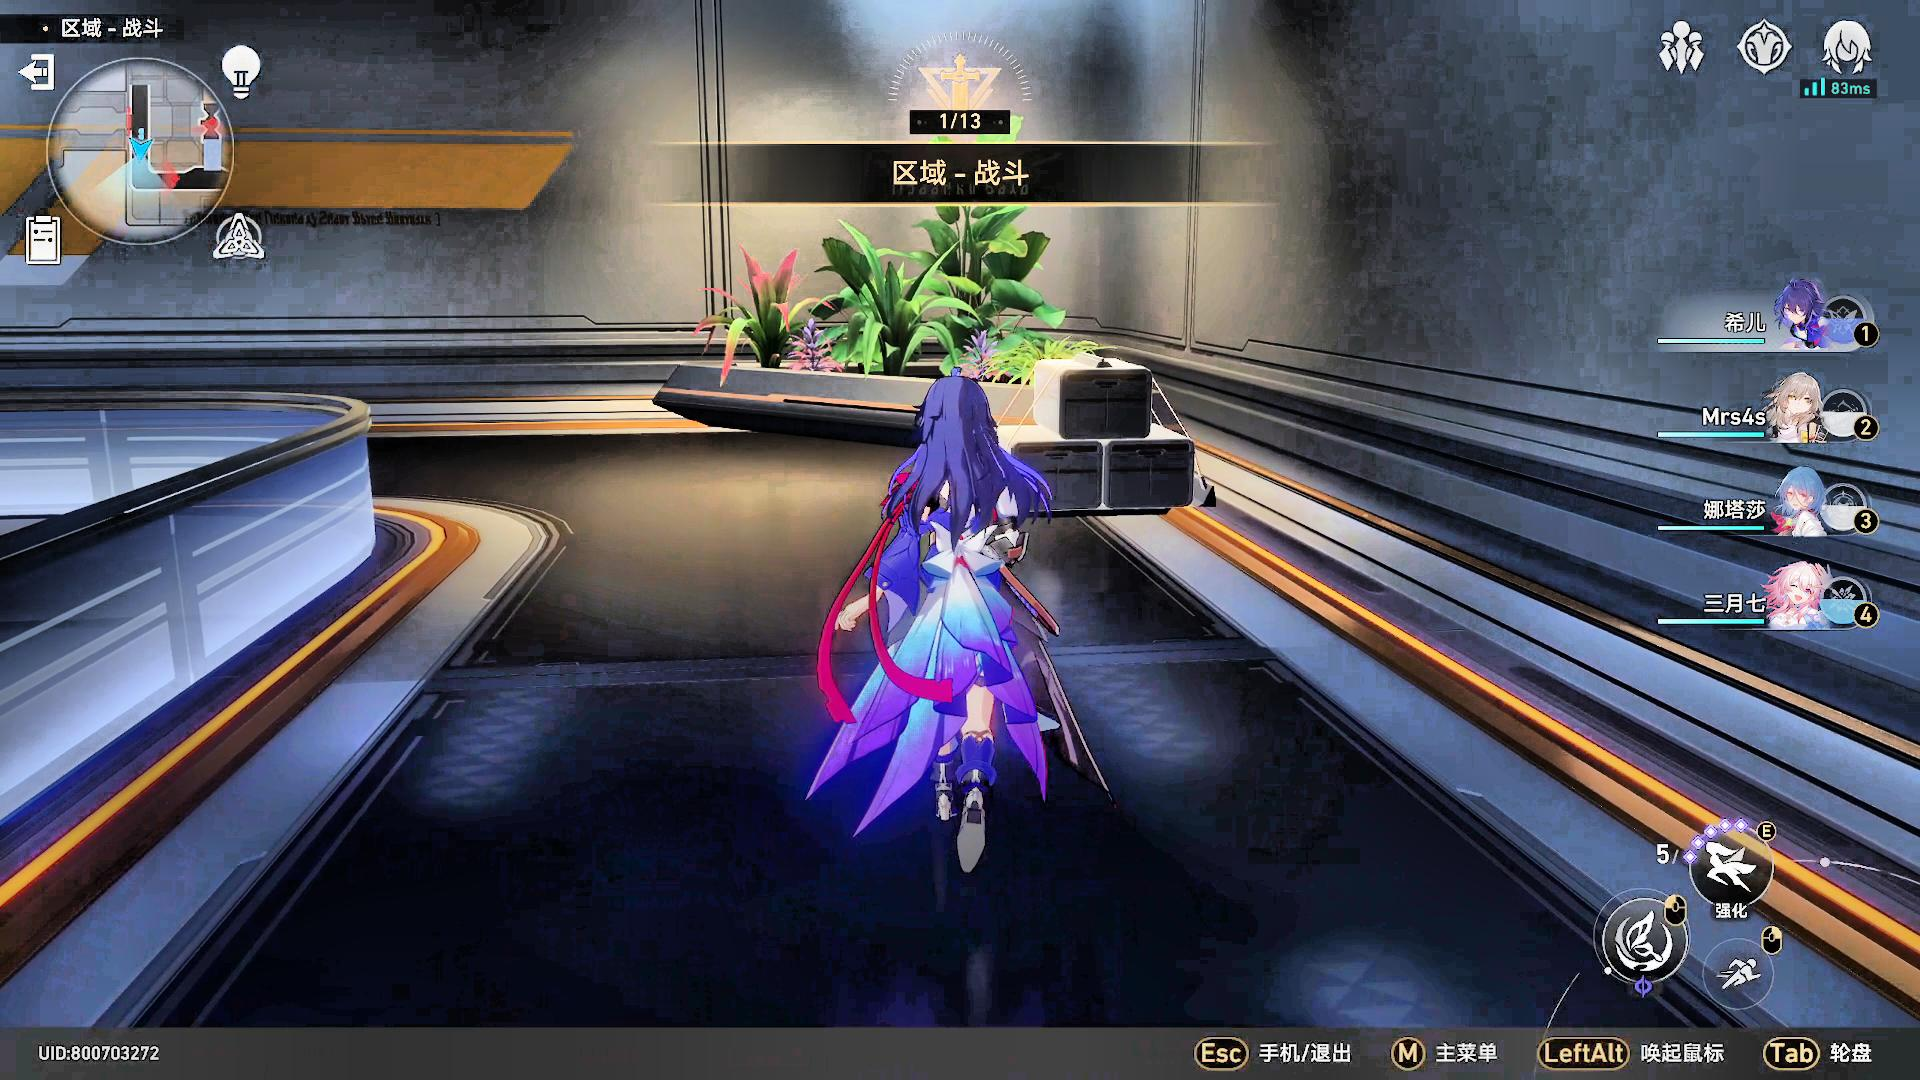Box: (990, 345, 1200, 521)
Self: (822, 367, 1065, 902)
